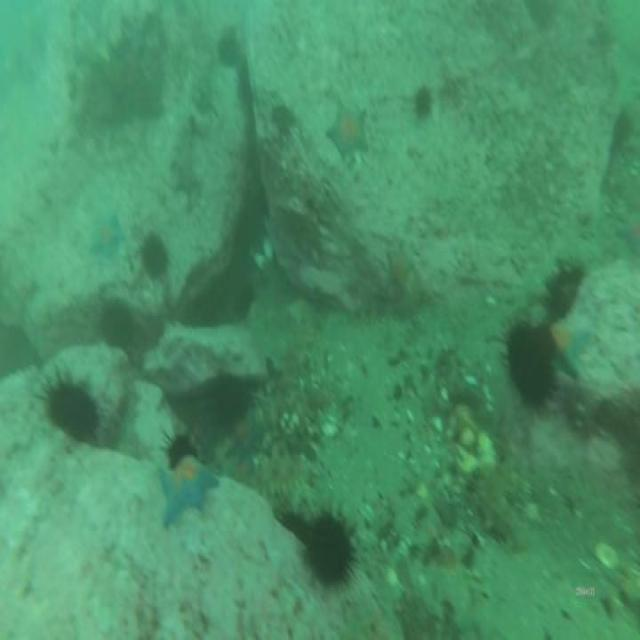echinus: (507, 328, 552, 404), (308, 517, 351, 589), (50, 384, 98, 439), (546, 268, 578, 318), (210, 381, 242, 430), (102, 302, 134, 349), (143, 234, 165, 280), (215, 35, 238, 66), (235, 283, 255, 316), (415, 88, 430, 114)
holothurian: (482, 464, 522, 552), (236, 452, 310, 490)
starfish: (160, 456, 220, 524), (328, 106, 371, 163), (171, 148, 200, 206), (228, 414, 264, 460), (388, 242, 412, 289), (93, 220, 123, 256)
